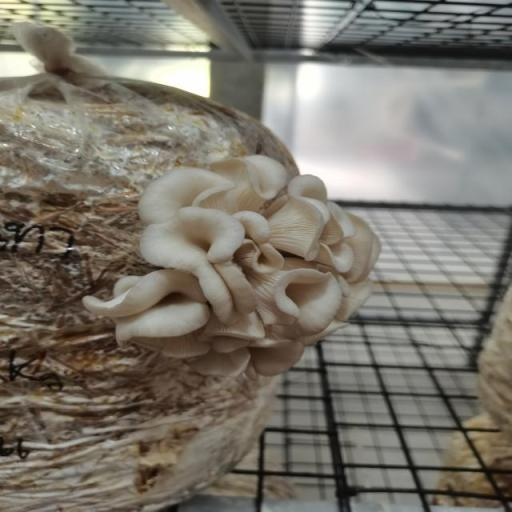White Oyster Mushroom: (83, 151, 386, 379)
